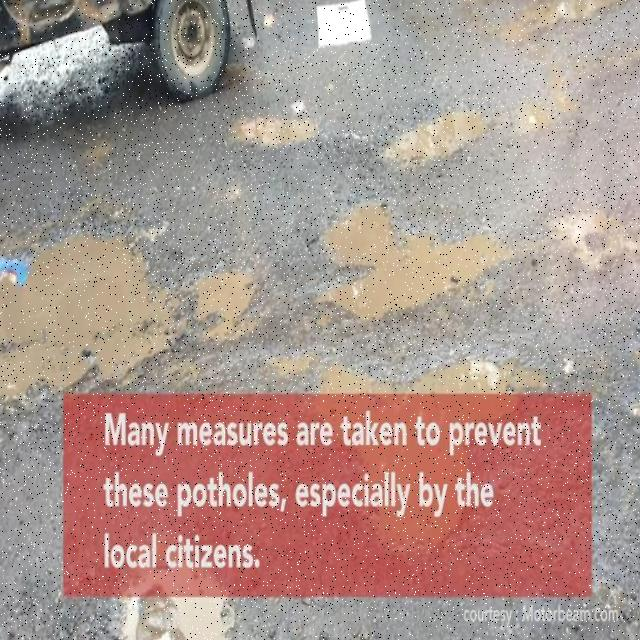pothole: (6, 233, 248, 407), (315, 194, 512, 323), (379, 107, 484, 173), (234, 106, 319, 154)
